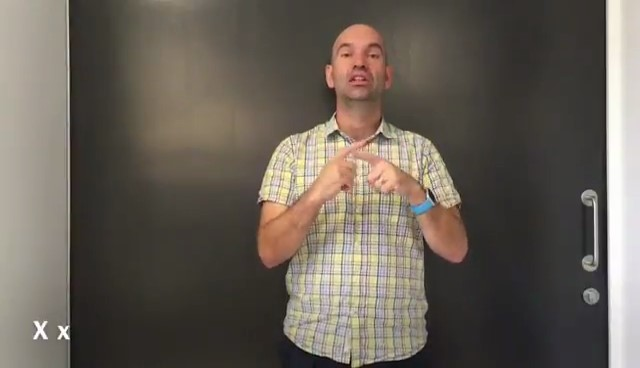X: (309, 135, 415, 213)
